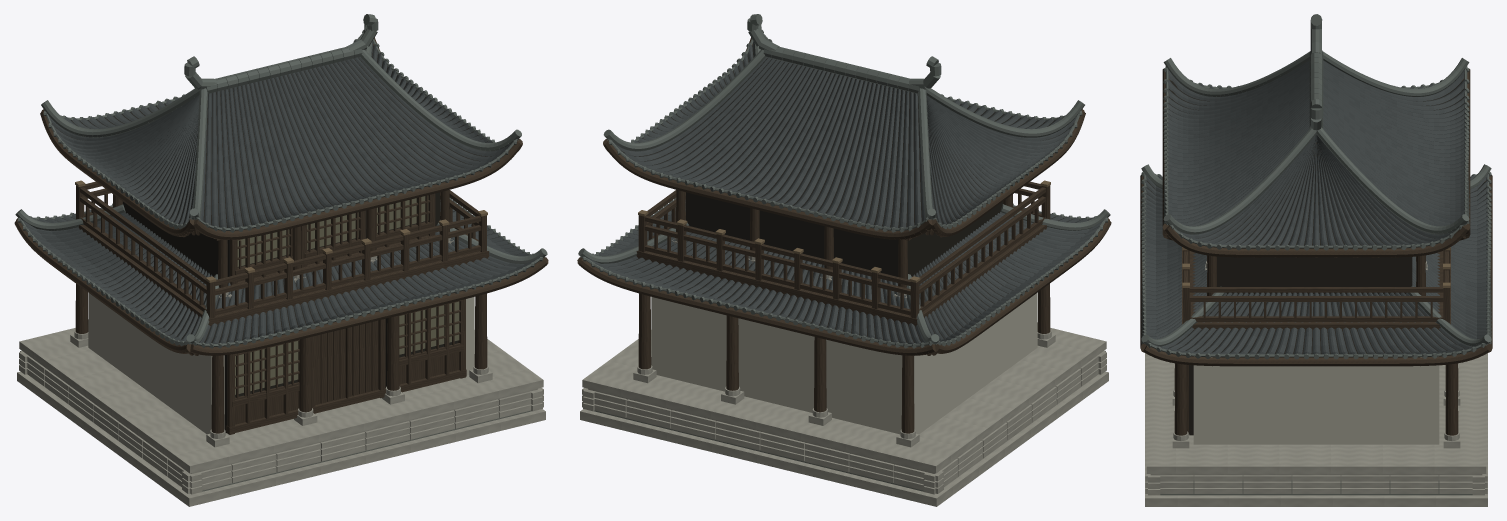
File: pavilion.glb
3 renders of one model, left to right at view 1: azimuth 30°, elevation 25°; view 2: azimuth 150°, elevation 25°; view 3: azimuth 270°, elevation 25°, orthographic.
Visible parts, largest first — view 1: SidePavilion_Dark_Grey_Fired_Tiles, SidePavilion_Aged_Cedar, SidePavilion_Weathered_Limestone, SidePavilion_Tile_Worn_Edges, SidePavilion_Deep_Wood_Recess, SidePavilion_Warm_Old_Limewash, SidePavilion_Window_Closed_Backpanel; view 2: SidePavilion_Dark_Grey_Fired_Tiles, SidePavilion_Weathered_Limestone, SidePavilion_Aged_Cedar, SidePavilion_Warm_Old_Limewash, SidePavilion_Deep_Wood_Recess, SidePavilion_Tile_Worn_Edges; view 3: SidePavilion_Dark_Grey_Fired_Tiles, SidePavilion_Weathered_Limestone, SidePavilion_Warm_Old_Limewash, SidePavilion_Aged_Cedar, SidePavilion_Tile_Worn_Edges, SidePavilion_Deep_Wood_Recess, SidePavilion_Stone_Recess.
Boxes of the visible parts, bbox=[...] form: SidePavilion_Dark_Grey_Fired_Tiles: bbox=[21, 40, 538, 343]; SidePavilion_Aged_Cedar: bbox=[14, 37, 548, 434]; SidePavilion_Weathered_Limestone: bbox=[17, 238, 545, 506]; SidePavilion_Tile_Worn_Edges: bbox=[15, 14, 547, 348]; SidePavilion_Deep_Wood_Recess: bbox=[52, 46, 504, 432]; SidePavilion_Warm_Old_Limewash: bbox=[88, 293, 474, 434]; SidePavilion_Window_Closed_Backpanel: bbox=[235, 195, 459, 394]; SidePavilion_Dark_Grey_Fired_Tiles: bbox=[587, 39, 1103, 343]; SidePavilion_Weathered_Limestone: bbox=[580, 238, 1108, 506]; SidePavilion_Aged_Cedar: bbox=[577, 37, 1111, 433]; SidePavilion_Warm_Old_Limewash: bbox=[651, 293, 1037, 434]; SidePavilion_Deep_Wood_Recess: bbox=[621, 45, 1084, 342]; SidePavilion_Tile_Worn_Edges: bbox=[578, 14, 1110, 348]; SidePavilion_Dark_Grey_Fired_Tiles: bbox=[1145, 60, 1487, 354]; SidePavilion_Weathered_Limestone: bbox=[1145, 261, 1487, 506]; SidePavilion_Warm_Old_Limewash: bbox=[1193, 356, 1439, 444]; SidePavilion_Aged_Cedar: bbox=[1140, 68, 1492, 435]; SidePavilion_Tile_Worn_Edges: bbox=[1141, 14, 1491, 359]; SidePavilion_Deep_Wood_Recess: bbox=[1146, 80, 1486, 435]; SidePavilion_Stone_Recess: bbox=[1160, 481, 1472, 495].
Size of the model in its own units: 12.38 by 11.93 by 10.48.
10 materials, 3 textured.
